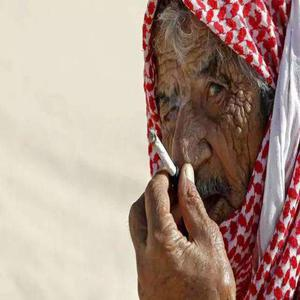cigarette: (147, 129, 178, 174)
